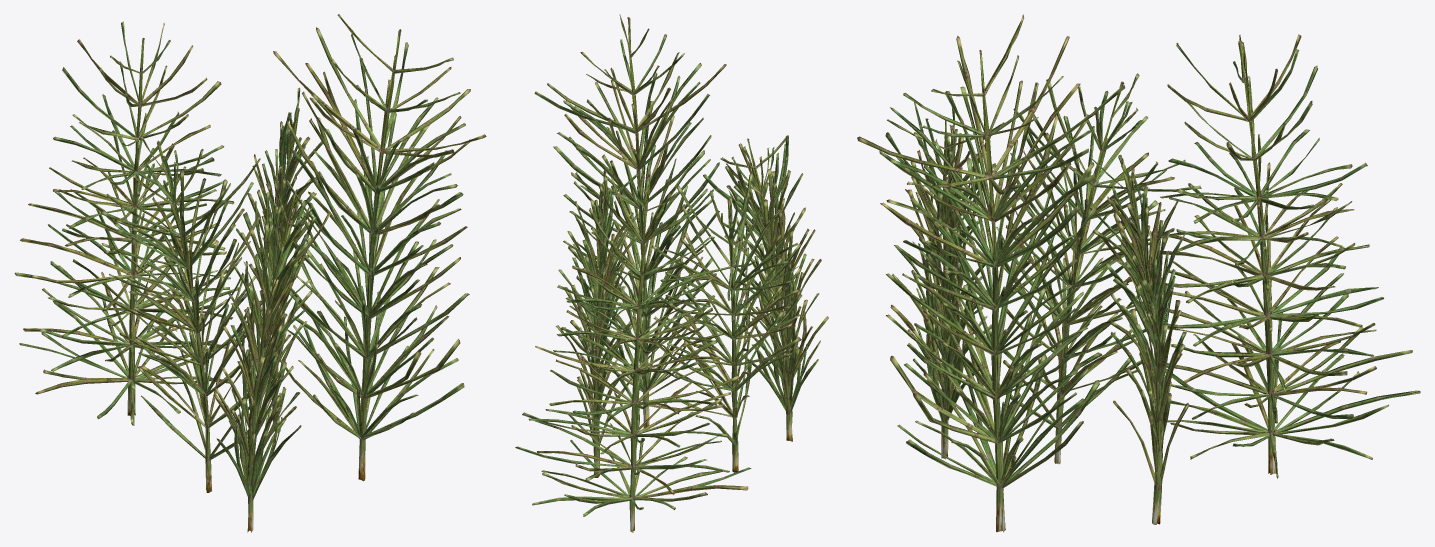
Rendered from EquisetumTelmateia.glb.
The picture shows the model from 3 angles, left to right: view 1: azimuth 30°, elevation 25°; view 2: azimuth 150°, elevation 25°; view 3: azimuth 270°, elevation 25°; orthographic projection. The views are drawn at different scales.
Visible parts, largest first — view 1: 094; view 2: 094; view 3: 094.
Part boxes in pixels (x1=…): 094: x1=14, y1=14, x2=486, y2=532; 094: x1=515, y1=14, x2=828, y2=532; 094: x1=857, y1=14, x2=1420, y2=532.
Bounding box in the file's own units: 3 × 4 × 4.
1 material, 1 textured.
